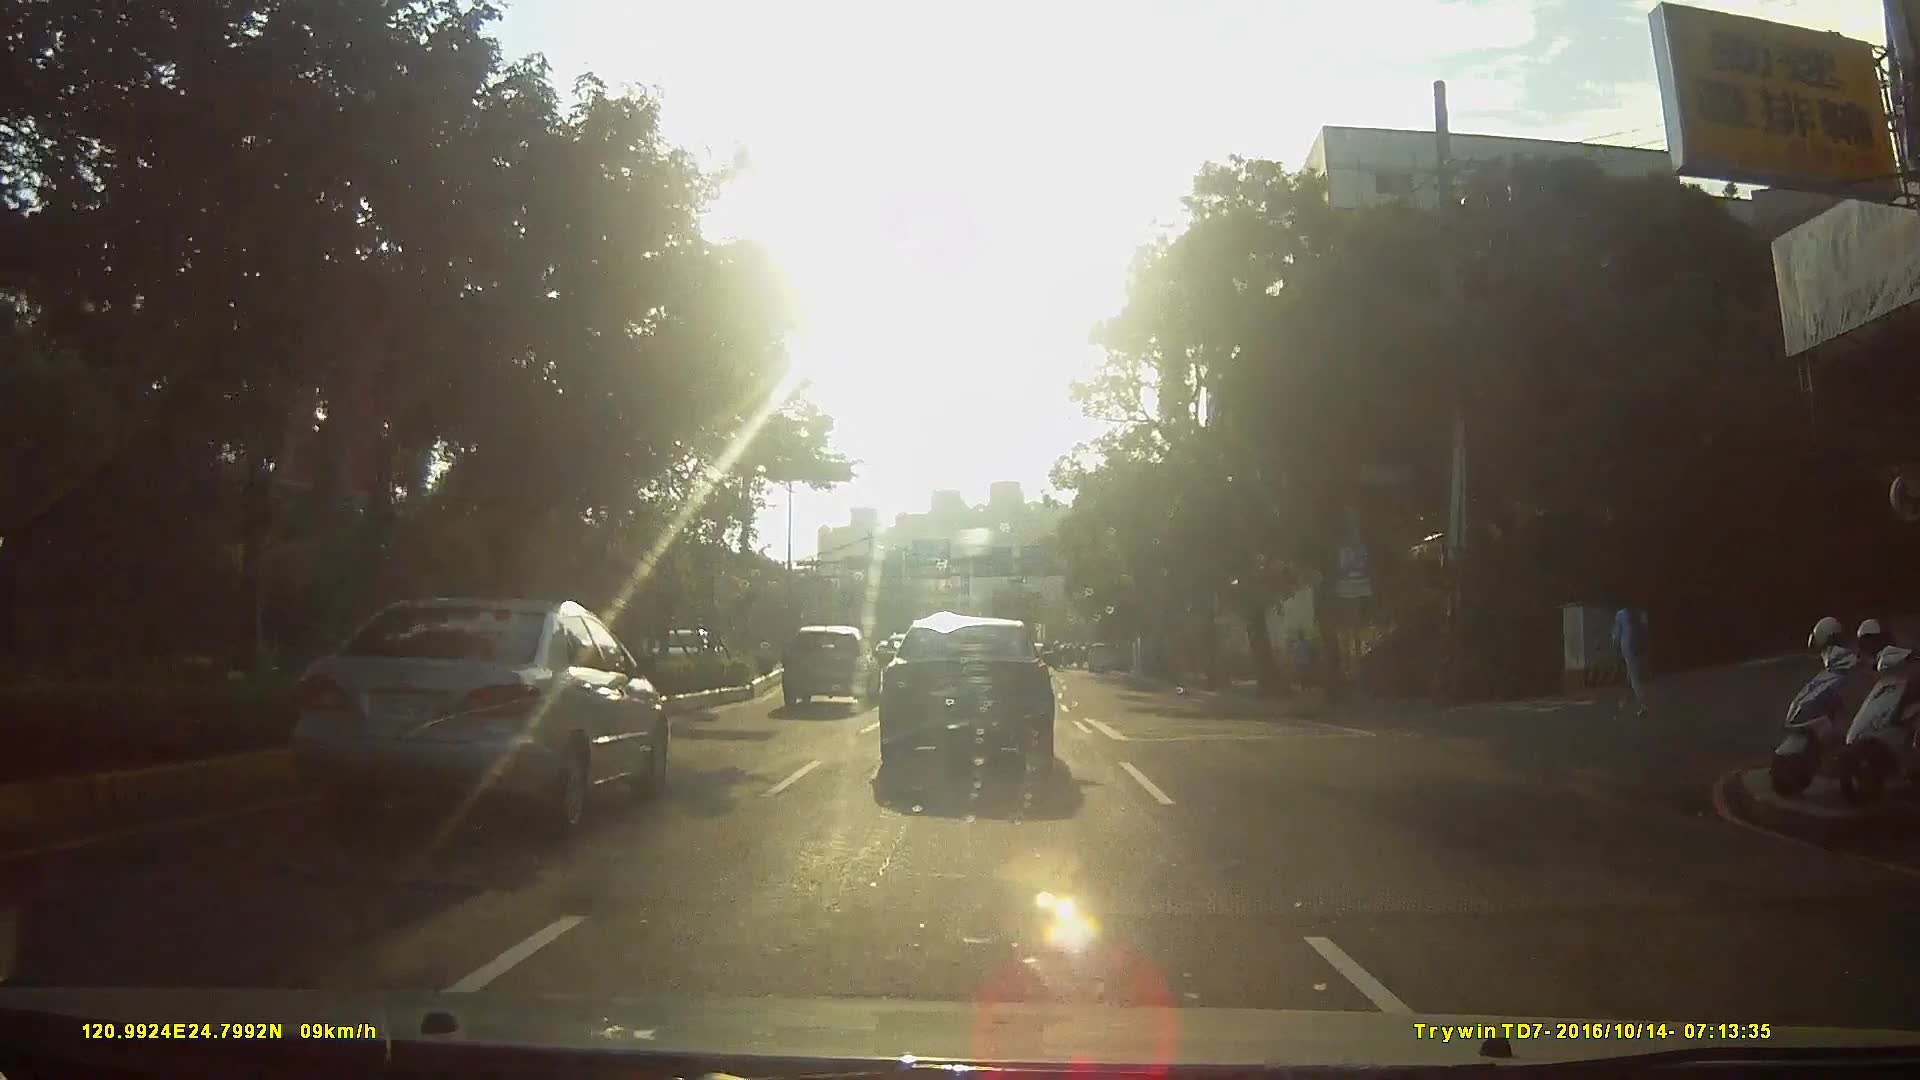pedestrian: (1613, 585, 1664, 713)
vehicle: (276, 594, 670, 833), (876, 615, 1079, 787), (781, 625, 883, 712), (1081, 641, 1115, 675)
